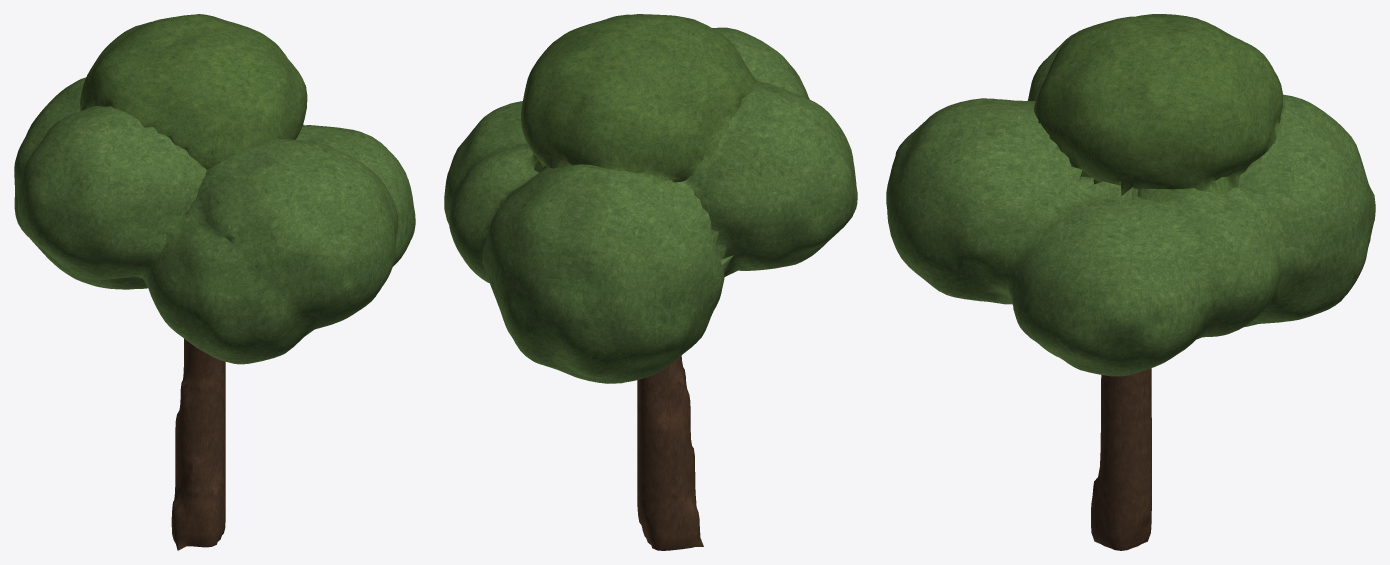
File: tree_oak.glb
3 views of the same model, side by side, from view 1: azimuth 30°, elevation 25°; view 2: azimuth 150°, elevation 25°; view 3: azimuth 270°, elevation 25° (orthographic). The views are drawn at different scales.
Parts seen in each view (by area): view 1: wilds_tree_oak; view 2: wilds_tree_oak; view 3: wilds_tree_oak.
Part boxes in pixels (<box>): wilds_tree_oak: <box>14,14,415,550</box>; wilds_tree_oak: <box>444,14,857,550</box>; wilds_tree_oak: <box>886,14,1375,550</box>.
Size of the model in its own units: 3.76 by 4.78 by 4.07.
Materials: 1 (1 with a texture image).
